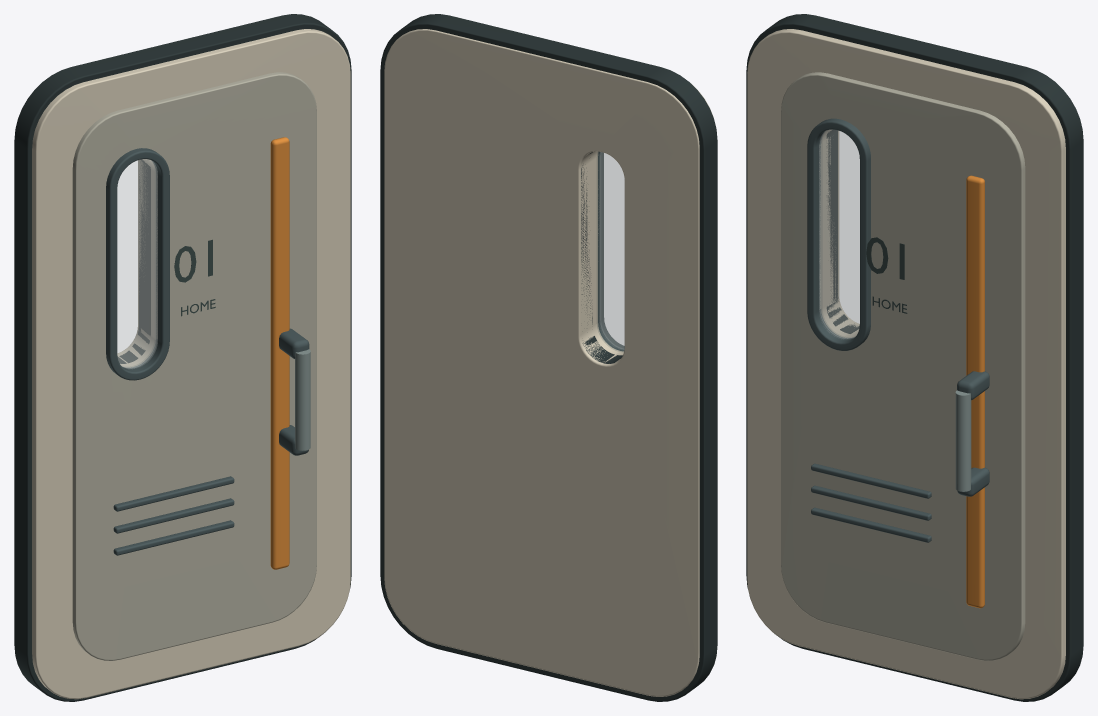
File: door-leaf-110.glb
The picture shows the model from 3 angles, left to right: view 1: azimuth 30°, elevation 25°; view 2: azimuth 150°, elevation 25°; view 3: azimuth 330°, elevation 25°; orthographic projection.
Parts seen in each view (by area): view 1: door-leaf-110 / 02 • inner shell, door-leaf-110 / 01 • warm porcelain paint, door-leaf-110 / 04 • graphite gasket, door-leaf-110 / 06 • dark anodized frame, door-leaf-110 / 03 • ochre enamel, door-leaf-110 / 07 • smoked teal glass, door-leaf-110 / 05 • brushed titanium, door-leaf-110 / 11 • dark graphic; view 2: door-leaf-110 / 01 • warm porcelain paint, door-leaf-110 / 04 • graphite gasket, door-leaf-110 / 07 • smoked teal glass, door-leaf-110 / 06 • dark anodized frame; view 3: door-leaf-110 / 02 • inner shell, door-leaf-110 / 01 • warm porcelain paint, door-leaf-110 / 04 • graphite gasket, door-leaf-110 / 06 • dark anodized frame, door-leaf-110 / 07 • smoked teal glass, door-leaf-110 / 03 • ochre enamel, door-leaf-110 / 05 • brushed titanium, door-leaf-110 / 11 • dark graphic.
Boxes of the visible parts, box(x1,y1,x2,y2) form: door-leaf-110 / 02 • inner shell: box(72, 72, 316, 660); door-leaf-110 / 01 • warm porcelain paint: box(32, 29, 350, 699); door-leaf-110 / 04 • graphite gasket: box(14, 14, 351, 701); door-leaf-110 / 06 • dark anodized frame: box(106, 148, 309, 555); door-leaf-110 / 03 • ochre enamel: box(270, 137, 289, 569); door-leaf-110 / 07 • smoked teal glass: box(117, 159, 157, 368); door-leaf-110 / 05 • brushed titanium: box(295, 349, 310, 450); door-leaf-110 / 11 • dark graphic: box(174, 239, 215, 316); door-leaf-110 / 01 • warm porcelain paint: box(384, 29, 713, 696); door-leaf-110 / 04 • graphite gasket: box(380, 14, 717, 701); door-leaf-110 / 07 • smoked teal glass: box(599, 152, 624, 349); door-leaf-110 / 06 • dark anodized frame: box(598, 151, 624, 351); door-leaf-110 / 02 • inner shell: box(781, 72, 1025, 660); door-leaf-110 / 01 • warm porcelain paint: box(747, 29, 1065, 699); door-leaf-110 / 04 • graphite gasket: box(746, 14, 1083, 701); door-leaf-110 / 06 • dark anodized frame: box(807, 118, 989, 542); door-leaf-110 / 07 • smoked teal glass: box(819, 130, 859, 339); door-leaf-110 / 03 • ochre enamel: box(966, 175, 984, 608); door-leaf-110 / 05 • brushed titanium: box(955, 390, 971, 491); door-leaf-110 / 11 • dark graphic: box(866, 237, 907, 313).
Size of the model in its own units: 1.24 by 2.27 by 0.311.
